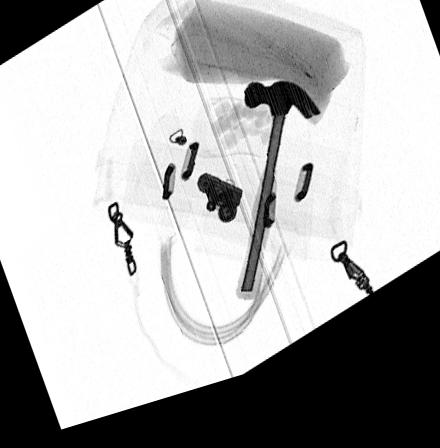Hammer: (235, 96, 322, 314)
